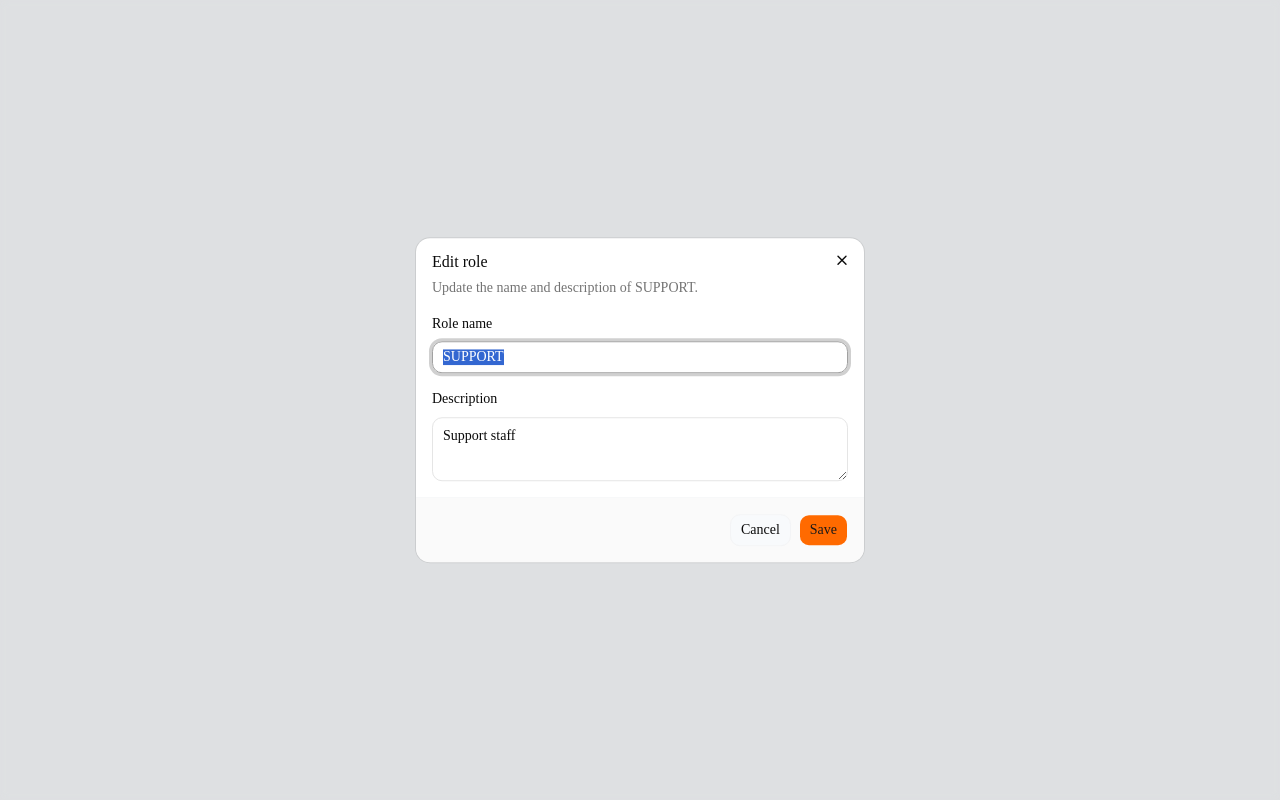
Test: EditRoleDialog › validates the name pattern before submitting
Replace the text in the field labelled "Role name" with "bad-name" at {"x": 640, "y": 358}, box [432,342,848,374]
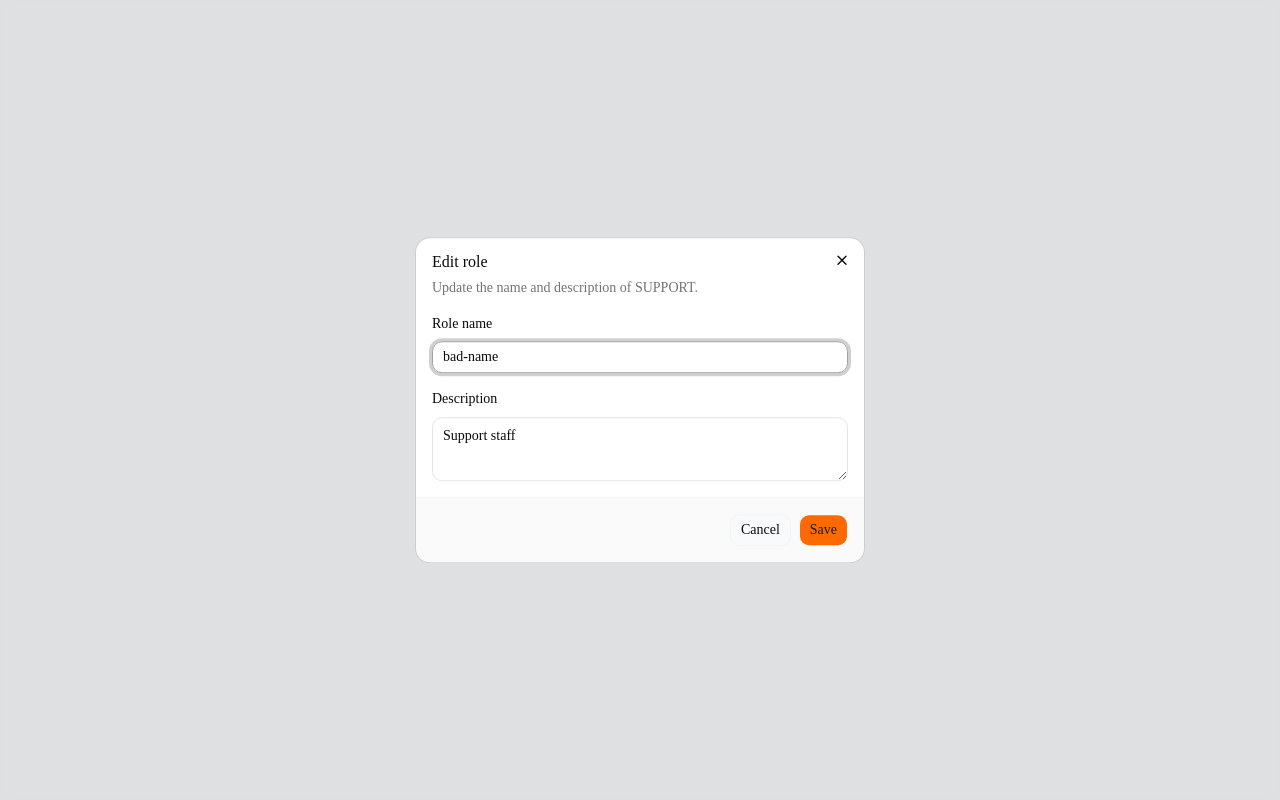
Click the button "Save" at {"x": 823, "y": 530}, box [799,514,848,546]
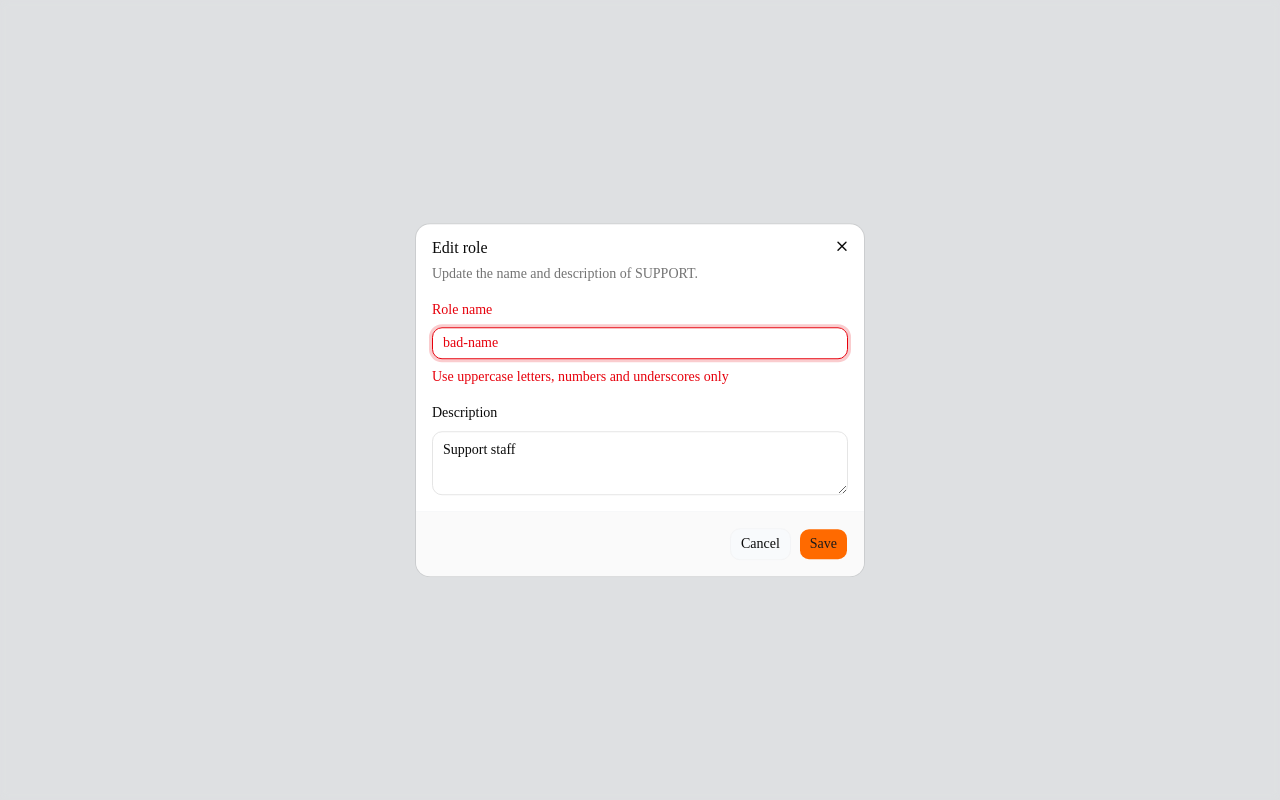
Now the text "Use uppercase letters, numbers and underscores only" is shown, box [432,370,729,384]
